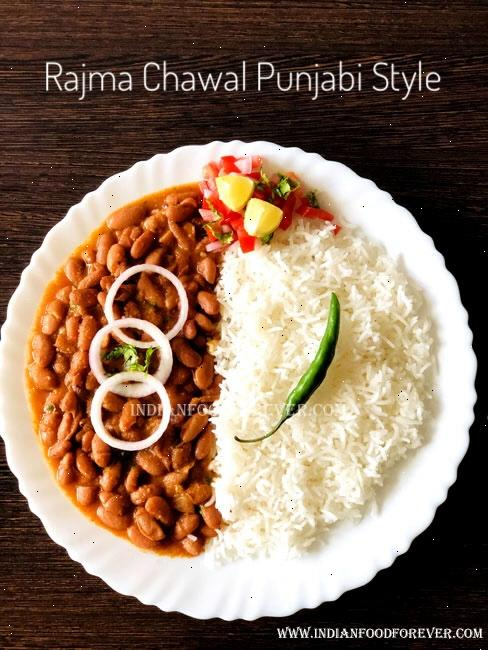rajma: (52, 237, 208, 583)
rice: (242, 242, 428, 563)
